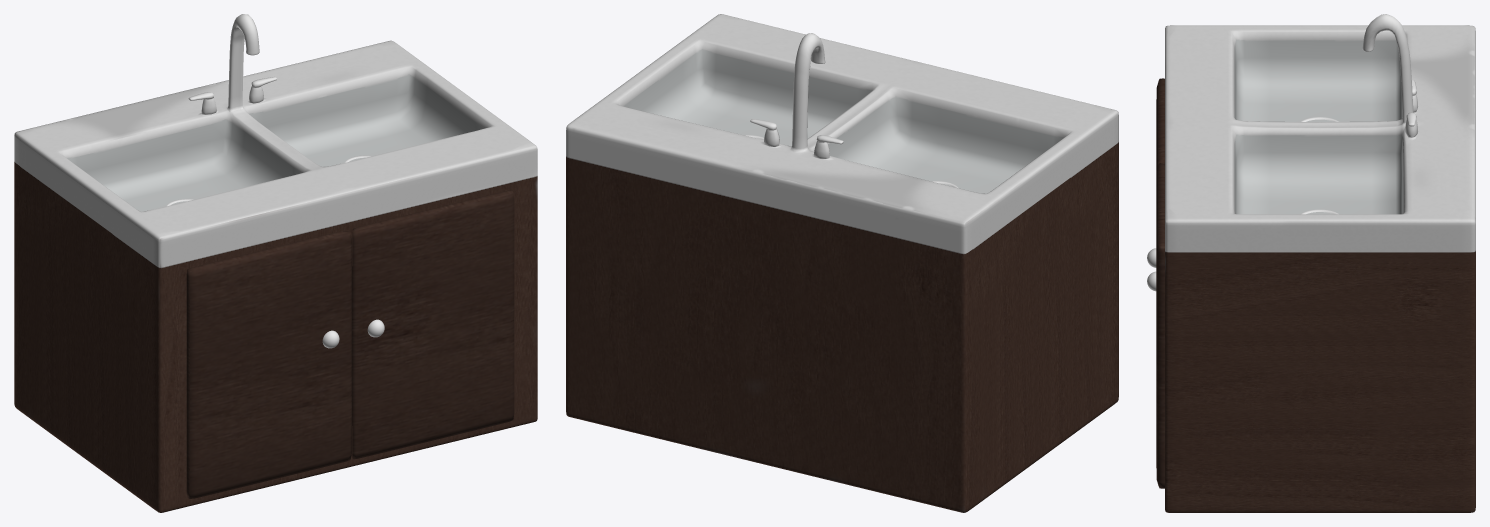
File: _finalSink.fbx
3 renders of one model, left to right at view 1: azimuth 30°, elevation 25°; view 2: azimuth 150°, elevation 25°; view 3: azimuth 270°, elevation 25°, orthographic. The views are drawn at different scales.
Visible parts, largest first — view 1: Sink; view 2: Sink; view 3: Sink.
Boxes of the visible parts, <box> form: Sink: <box>14,14,537,512</box>; Sink: <box>566,14,1118,512</box>; Sink: <box>1147,14,1475,512</box>.
Size of the model in its own units: 483 by 460 by 341.
Materials: 1 (1 with a texture image).
